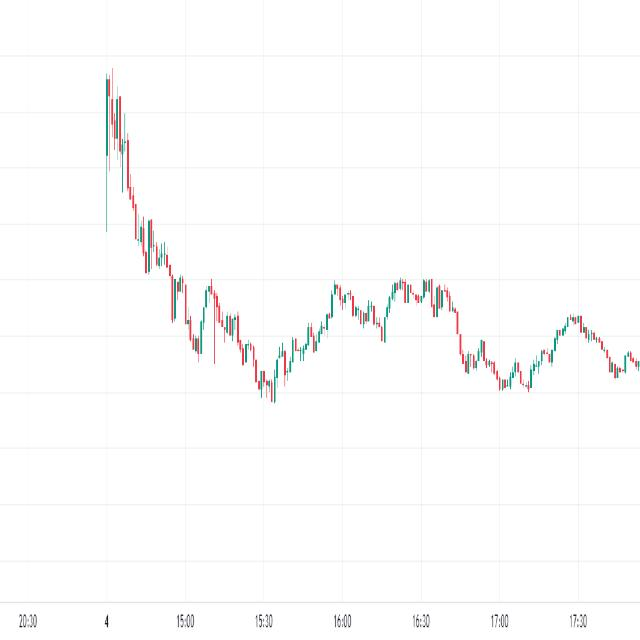Rounding-Bottom: (208, 281, 336, 409)
